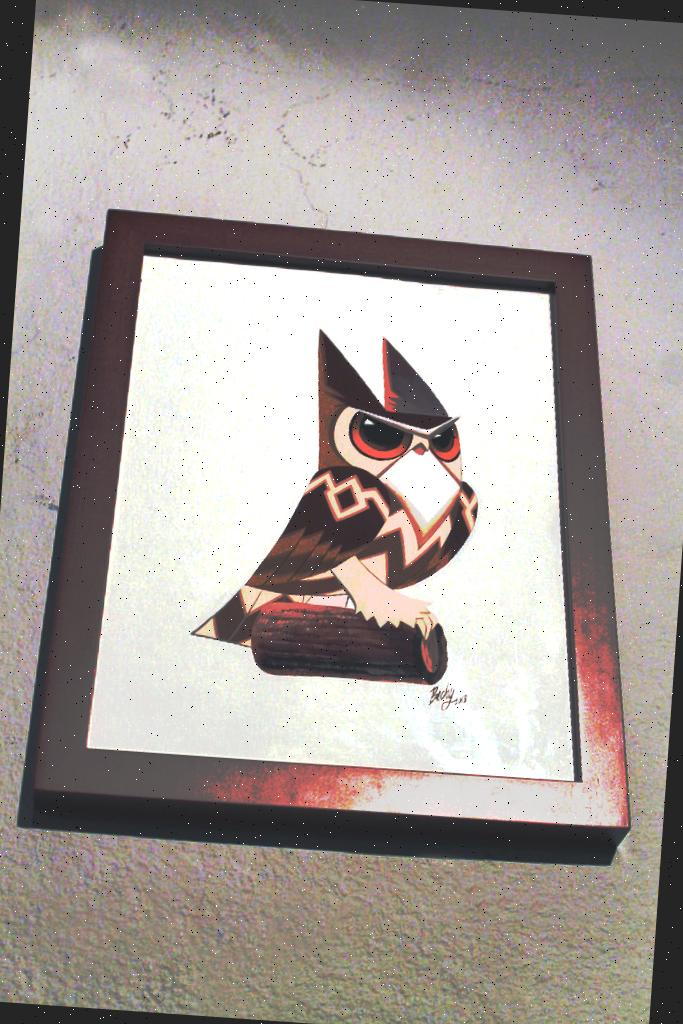Owl: (184, 318, 486, 664)
